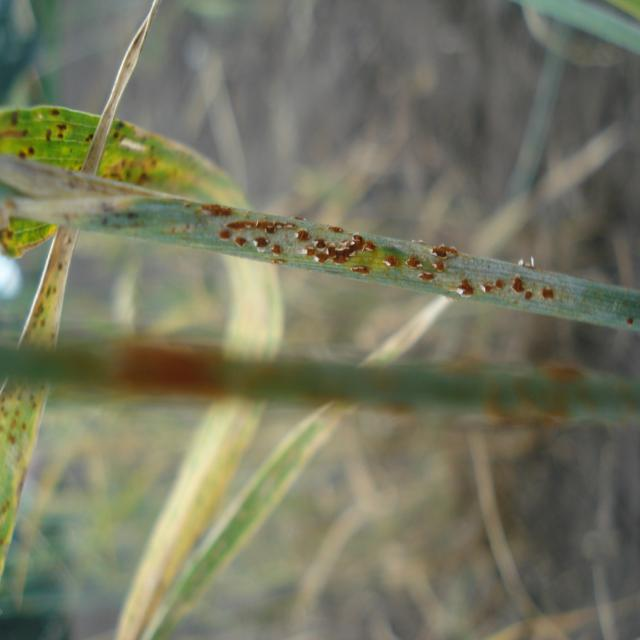wheat-stemrust: (112, 194, 588, 311), (2, 108, 176, 189), (75, 341, 245, 392)
